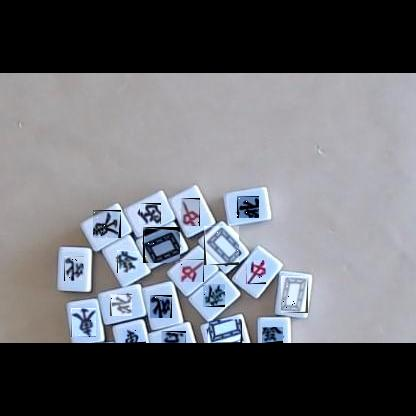1z: (93, 210, 121, 238), (71, 308, 96, 337), (122, 329, 146, 343)
2z: (161, 331, 186, 343)
3z: (139, 203, 161, 224)
4z: (150, 295, 172, 318), (64, 256, 84, 281), (237, 196, 259, 218), (110, 294, 132, 316)
5z: (204, 226, 239, 265), (143, 227, 180, 263), (281, 276, 308, 313), (208, 319, 242, 343)
6z: (203, 284, 225, 307), (117, 250, 138, 273), (262, 327, 283, 343)
7z: (180, 259, 204, 282), (181, 198, 200, 226), (246, 260, 266, 284)
